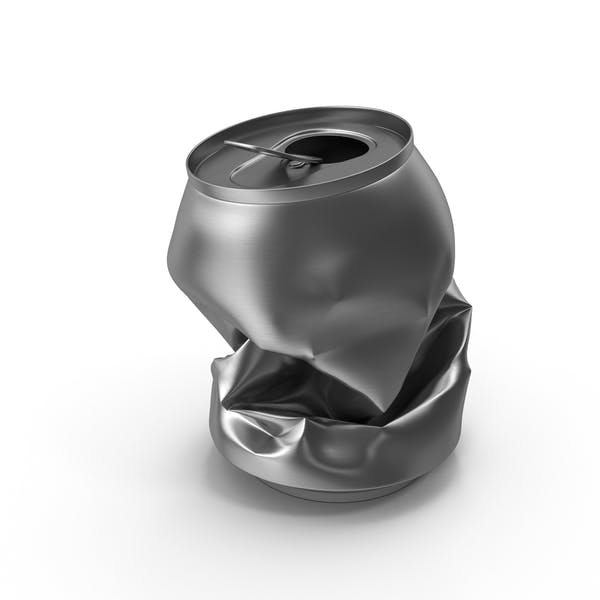can: (166, 104, 474, 505)
